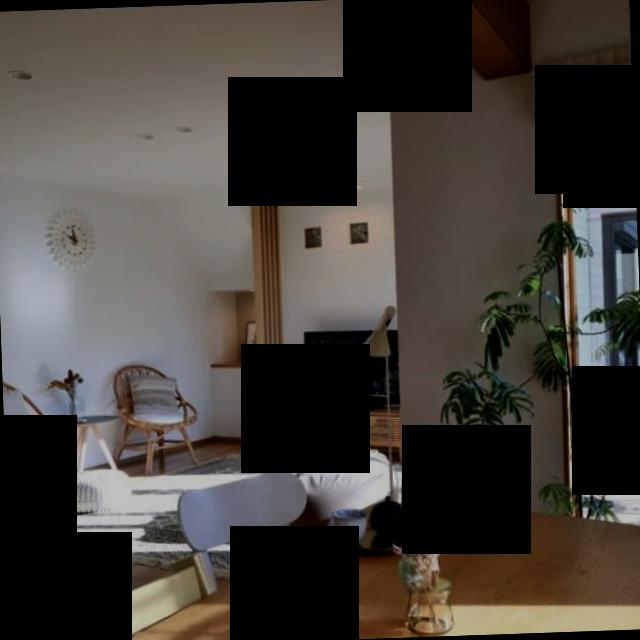natural chair: (1, 371, 72, 515), (111, 358, 202, 470)
natural desk: (7, 492, 640, 640)
